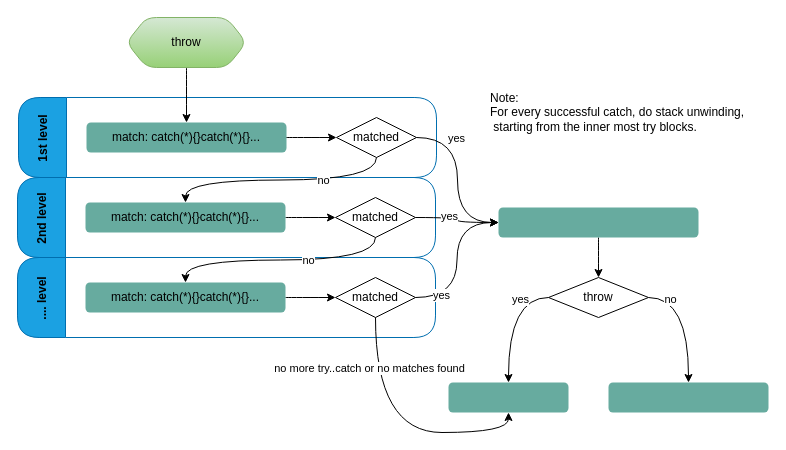
Image size: 786x450. Some labels were removed from this diagram. Here are the shapes that lost their labels. From the top down, the centre of each, then its label:
the point at 598,222: do stack unwinding(call destructors)
the point at 508,397: std::terminate()
the point at 688,397: execute catch code block
